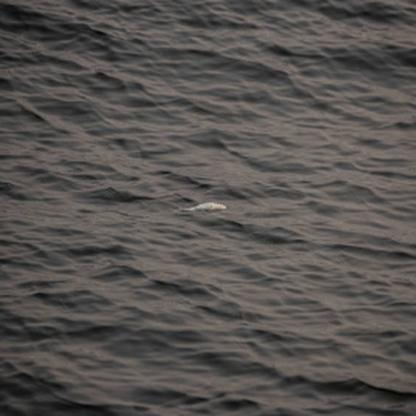deceased fish: (168, 199, 230, 214)
